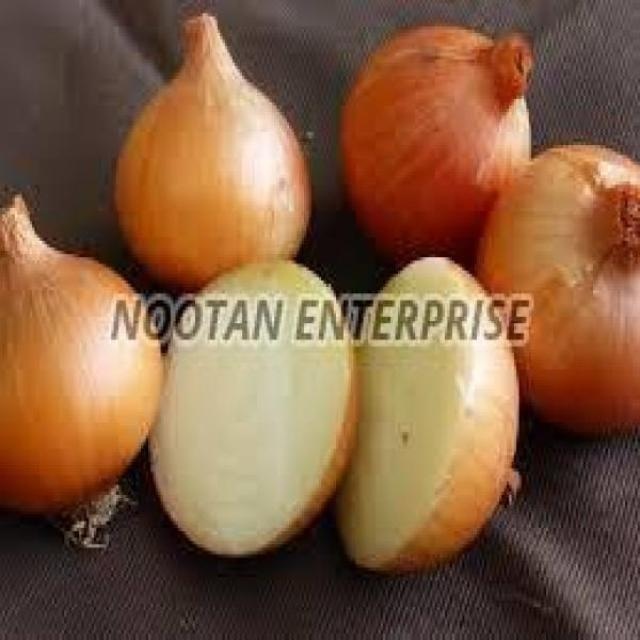Onion: (146, 260, 357, 561), (331, 260, 529, 579), (0, 188, 173, 551), (113, 13, 314, 298), (473, 145, 640, 439), (339, 23, 535, 272)
